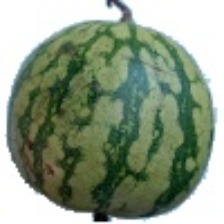watermelon: (26, 13, 199, 181)
